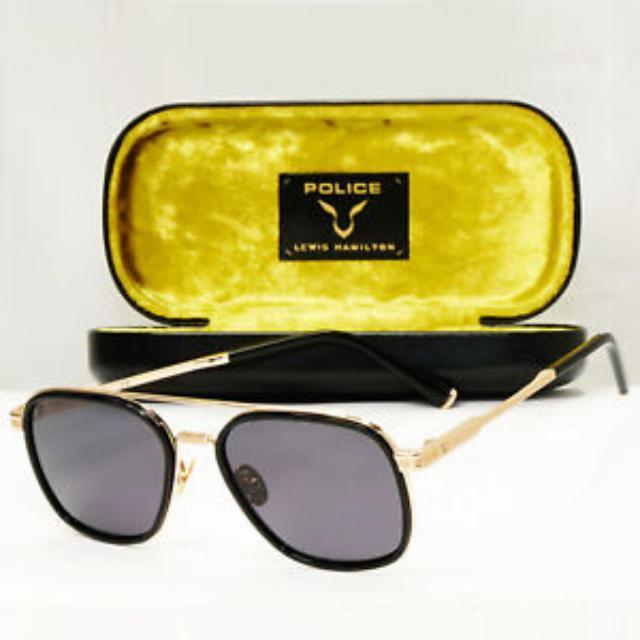glasses: (15, 318, 640, 566)
